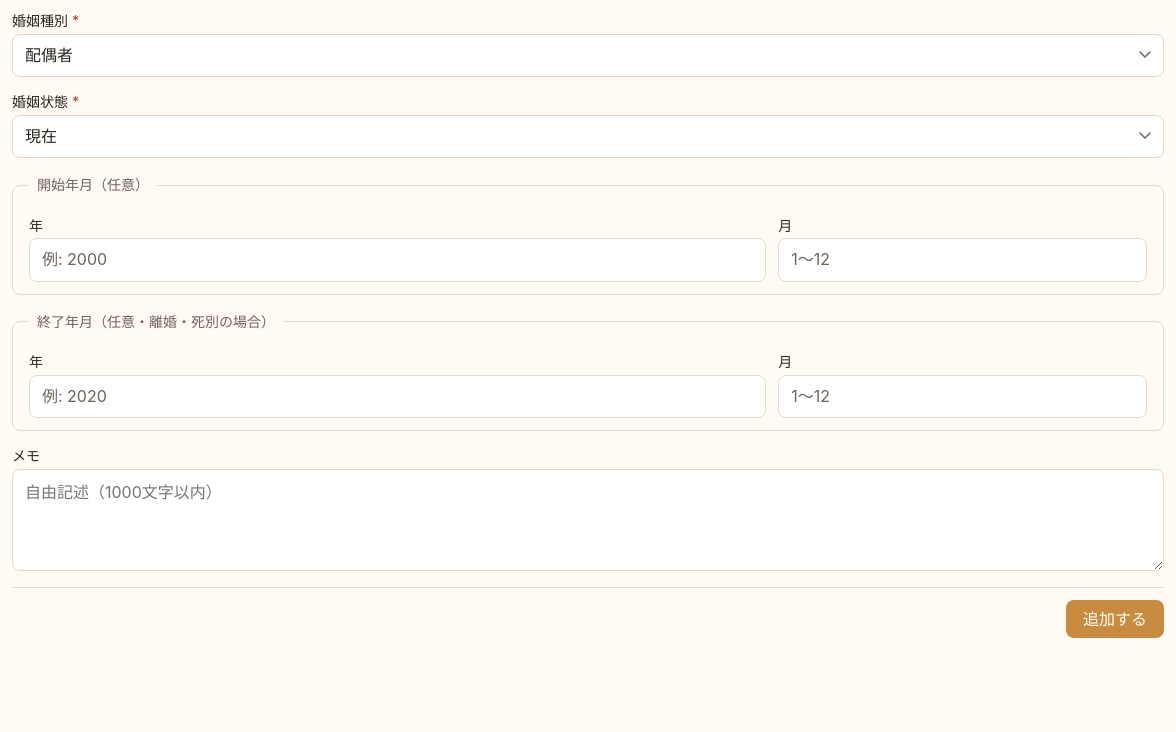
Test: RelationForm (kind=marriage) › バリデーションエラー › startYear が 9999 超 → バリデーションエラーが表示される
Type "10000" into the number field labelled "年" below "開始年月（任意）". click: (398, 260)
box: [30,239,765,281]
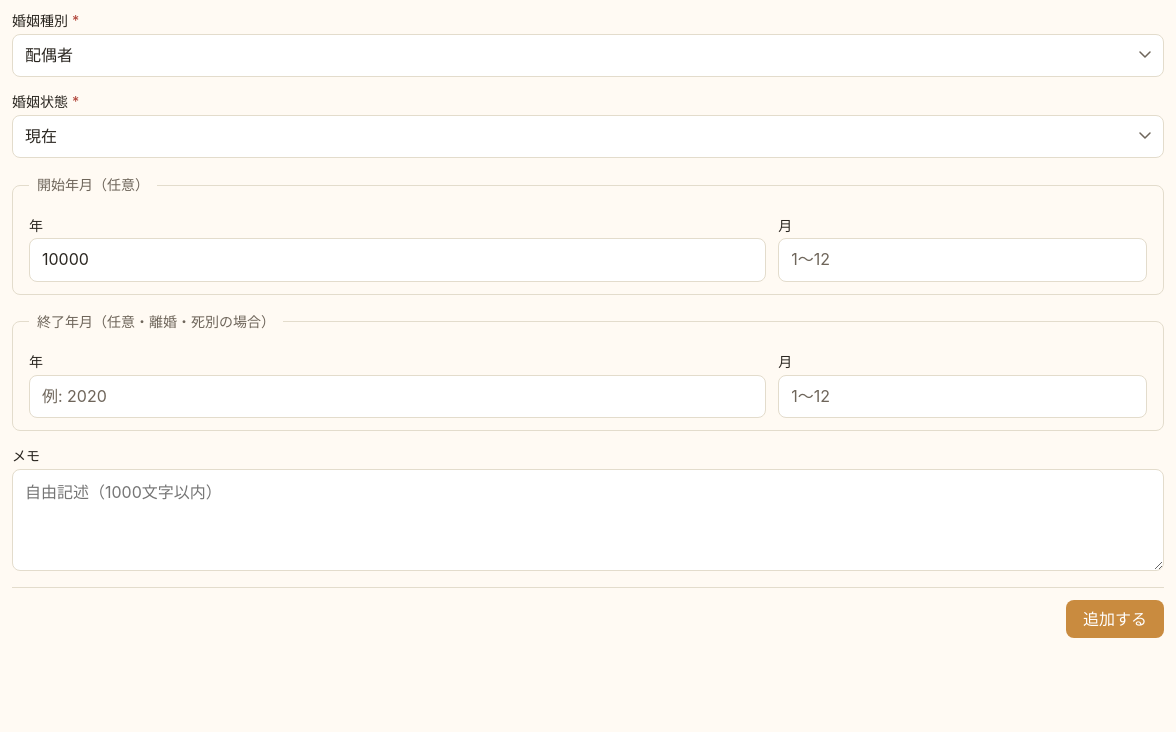
Click the button "追加する". click: (1115, 619)
box: [1066,600,1164,638]
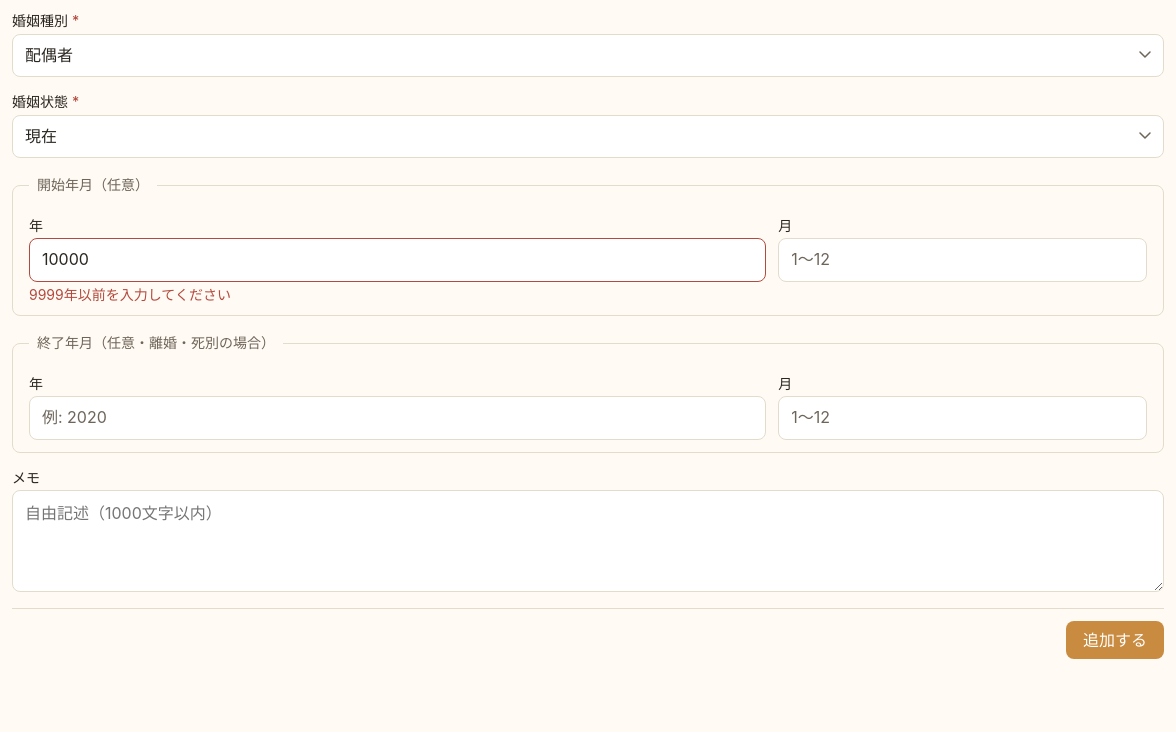
Result: the text "9999年以前を入力してください" is shown at [29,286,231,303]
